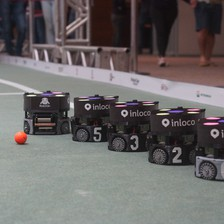ball: (12, 129, 27, 144)
robot: (149, 105, 198, 166), (107, 99, 153, 155), (21, 89, 72, 136), (70, 93, 111, 144), (193, 116, 224, 180)
